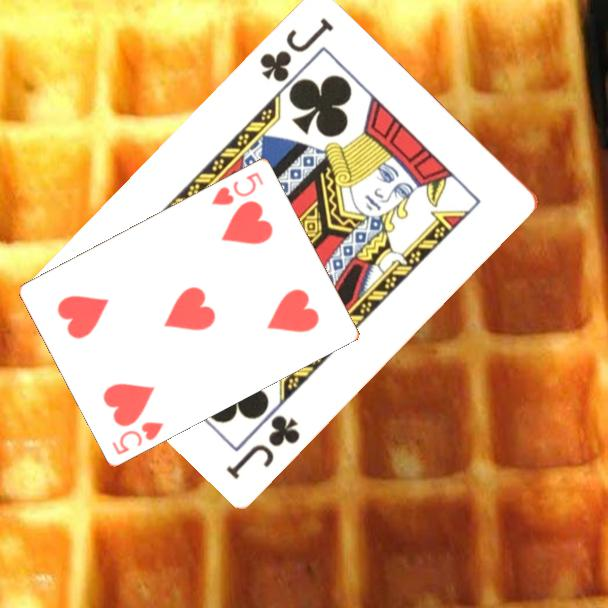c11: (222, 410, 303, 482), (255, 13, 337, 84)
h05: (208, 168, 267, 208), (109, 418, 167, 457)
